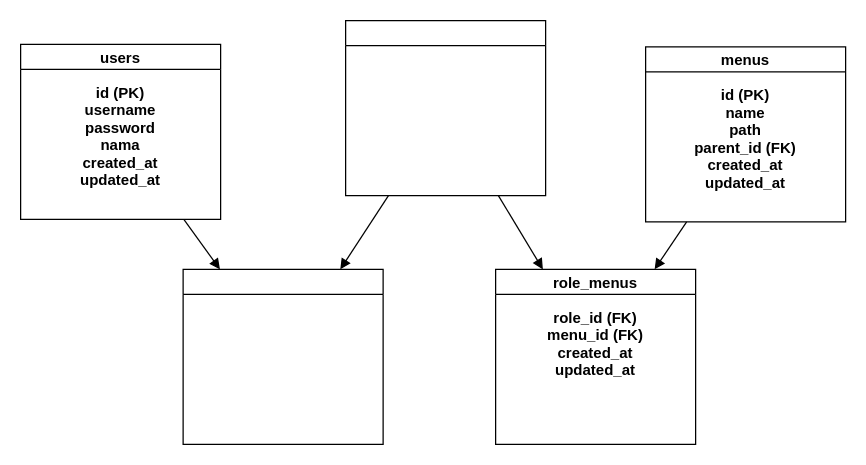
Some shapes in this 866 by 465 pixel diagram are drawn without their labels. Here are the shapes that lost their labels. From the top down, the centre of each, then its label:
(x=445, y=107): roles id (PK) name created_at updated_at
(x=282, y=356): user_roles user_id (FK) role_id (FK) created_at updated_at
